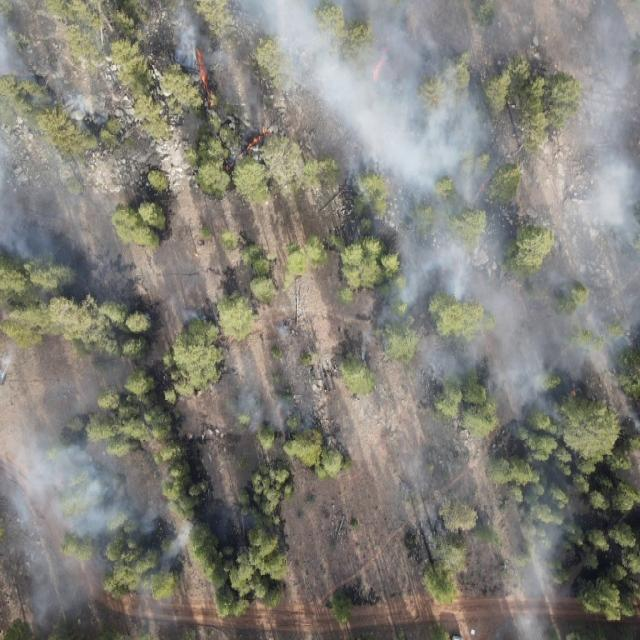fire: (192, 46, 223, 110), (234, 125, 272, 163), (369, 45, 392, 85), (473, 179, 489, 199), (222, 161, 232, 173), (432, 95, 441, 105), (568, 388, 576, 398)
smoke: (174, 0, 640, 205), (362, 202, 640, 416), (0, 394, 191, 640), (390, 417, 565, 637), (0, 0, 132, 282), (234, 384, 316, 444), (270, 314, 304, 350), (173, 302, 204, 332)
